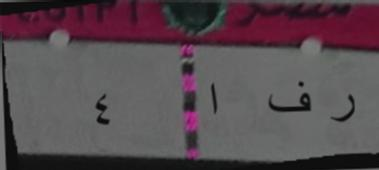4: (90, 90, 118, 133)
alif: (200, 77, 224, 122)
faa: (264, 75, 315, 119)
raa: (326, 86, 361, 128)
